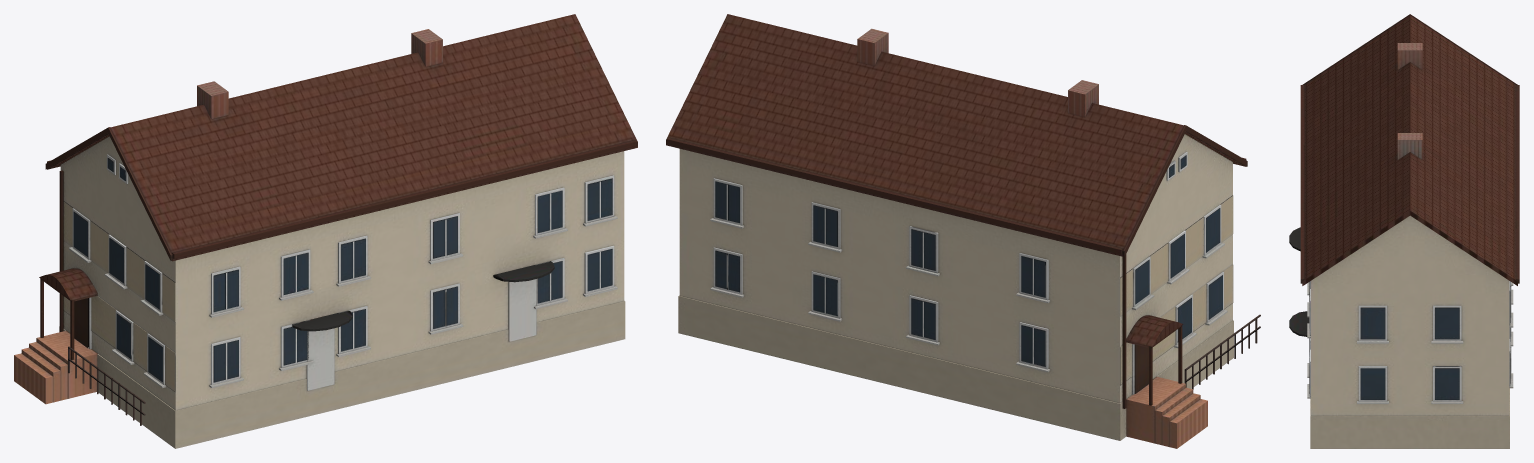
The model's file is przedszkole.glb.
3 views of the same model, side by side, from view 1: azimuth 30°, elevation 25°; view 2: azimuth 150°, elevation 25°; view 3: azimuth 270°, elevation 25° (orthographic). The views are drawn at different scales.
Visible parts, largest first — view 1: przedszkole; view 2: przedszkole; view 3: przedszkole.
Boxes of the visible parts, left/top/right/bottom form: przedszkole: left=14, top=14, right=637, bottom=448; przedszkole: left=666, top=14, right=1260, bottom=448; przedszkole: left=1289, top=14, right=1519, bottom=448.
Size of the model in its own units: 20.45 by 11.3 by 9.3.
1 material, 1 textured.
